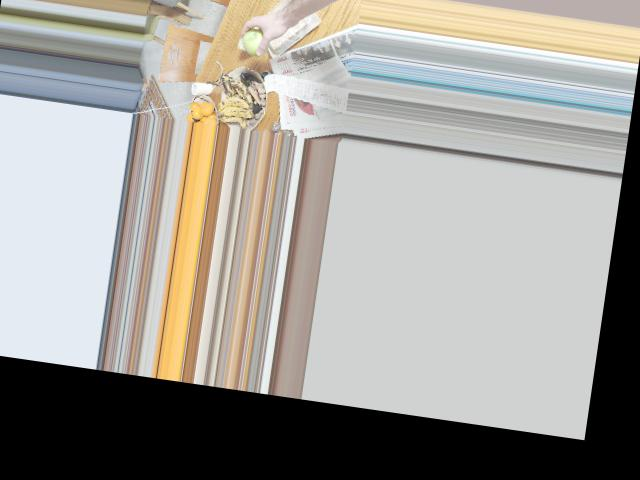apple: (240, 25, 271, 56)
